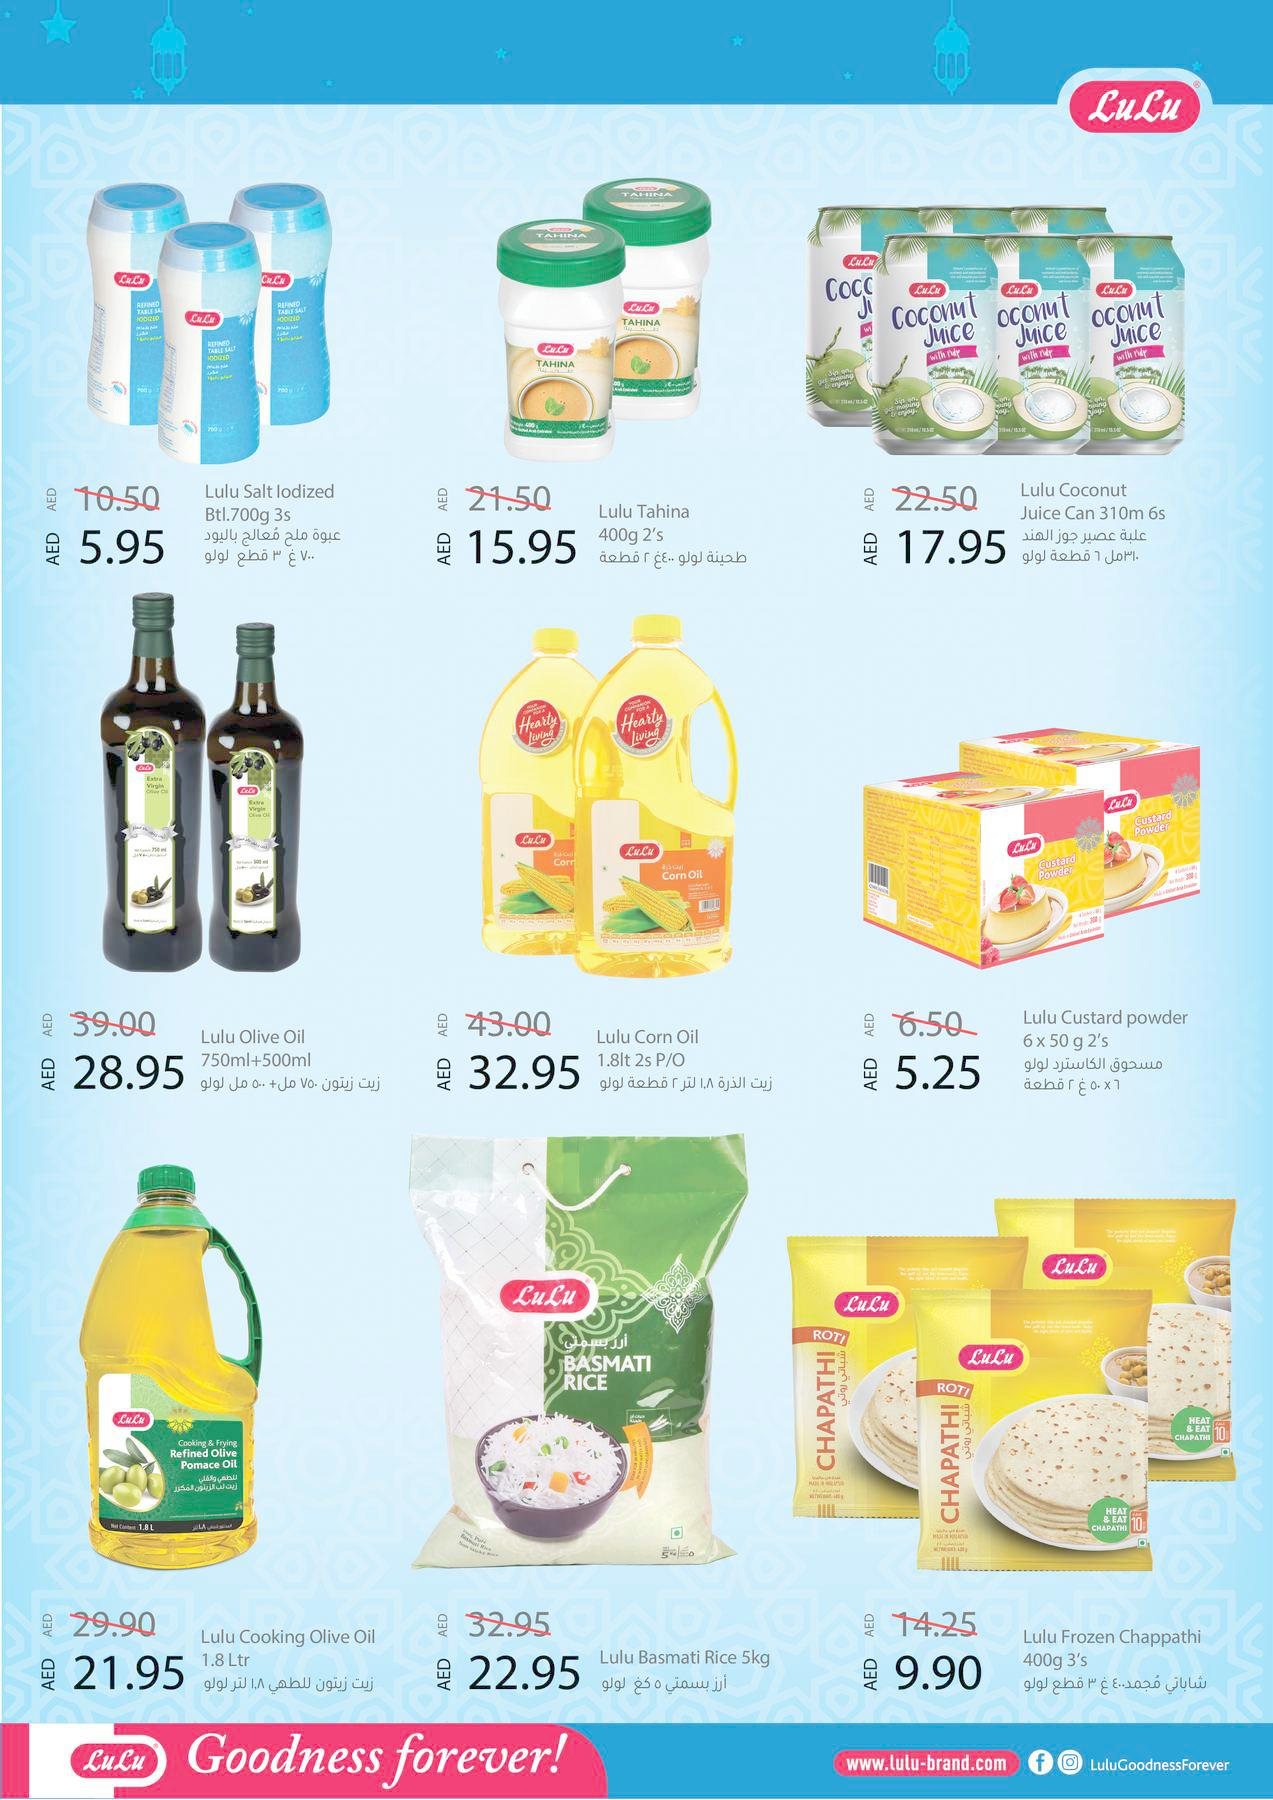text: (1008, 1611, 1228, 1719), (1008, 463, 1197, 587), (1004, 993, 1215, 1103), (584, 1016, 817, 1113), (586, 485, 789, 594), (190, 470, 384, 580), (190, 1018, 393, 1109), (192, 1620, 391, 1706), (592, 1624, 802, 1704)
